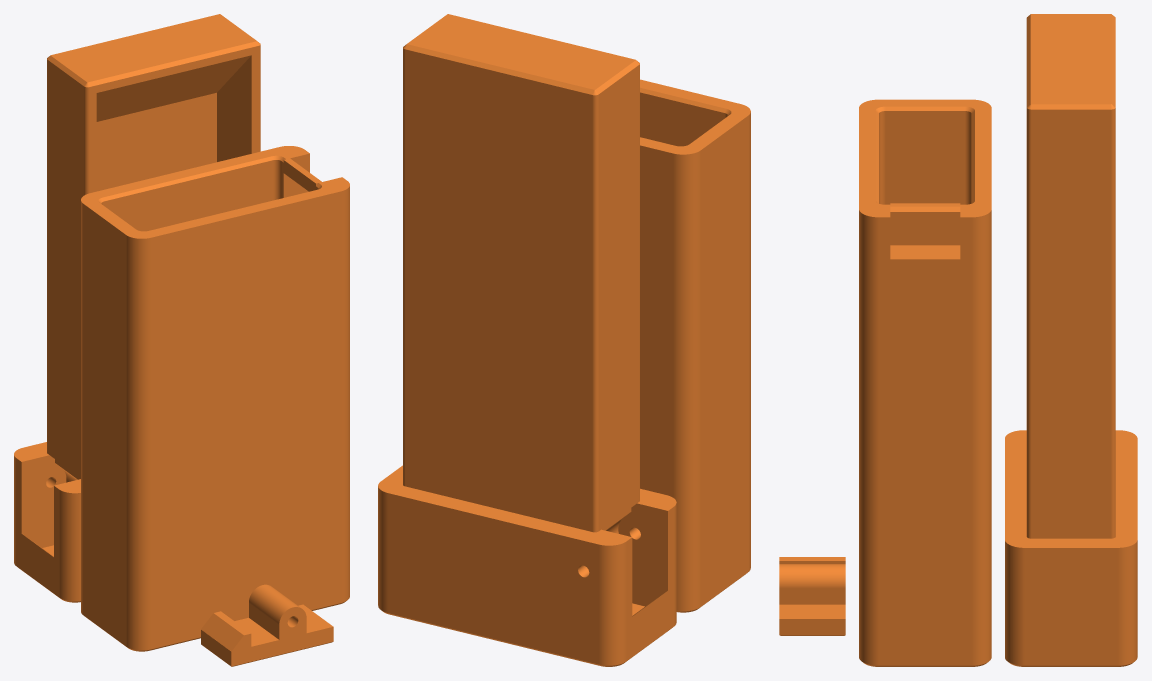
3 views of the same model, side by side, from view 1: azimuth 30°, elevation 25°; view 2: azimuth 150°, elevation 25°; view 3: azimuth 270°, elevation 25° (orthographic). The views are drawn at different scales.
Parts seen in each view (by area): view 1: popup_latch_box_plate.stl_1_fil1, popup_latch_box_plate.stl_2_fil1, popup_latch_box_plate.stl_3_fil1; view 2: popup_latch_box_plate.stl_2_fil1, popup_latch_box_plate.stl_1_fil1; view 3: popup_latch_box_plate.stl_1_fil1, popup_latch_box_plate.stl_2_fil1, popup_latch_box_plate.stl_3_fil1.
Part boxes in pixels (x1,y1,x2,y2): popup_latch_box_plate.stl_1_fil1: [81, 146, 349, 651]; popup_latch_box_plate.stl_2_fil1: [14, 14, 260, 602]; popup_latch_box_plate.stl_3_fil1: [201, 584, 333, 666]; popup_latch_box_plate.stl_2_fil1: [378, 14, 676, 666]; popup_latch_box_plate.stl_1_fil1: [640, 79, 750, 612]; popup_latch_box_plate.stl_1_fil1: [859, 99, 991, 666]; popup_latch_box_plate.stl_2_fil1: [1005, 14, 1137, 666]; popup_latch_box_plate.stl_3_fil1: [779, 557, 845, 635].
Size of the model in its own units: 0.042 by 0.092 by 0.054.
